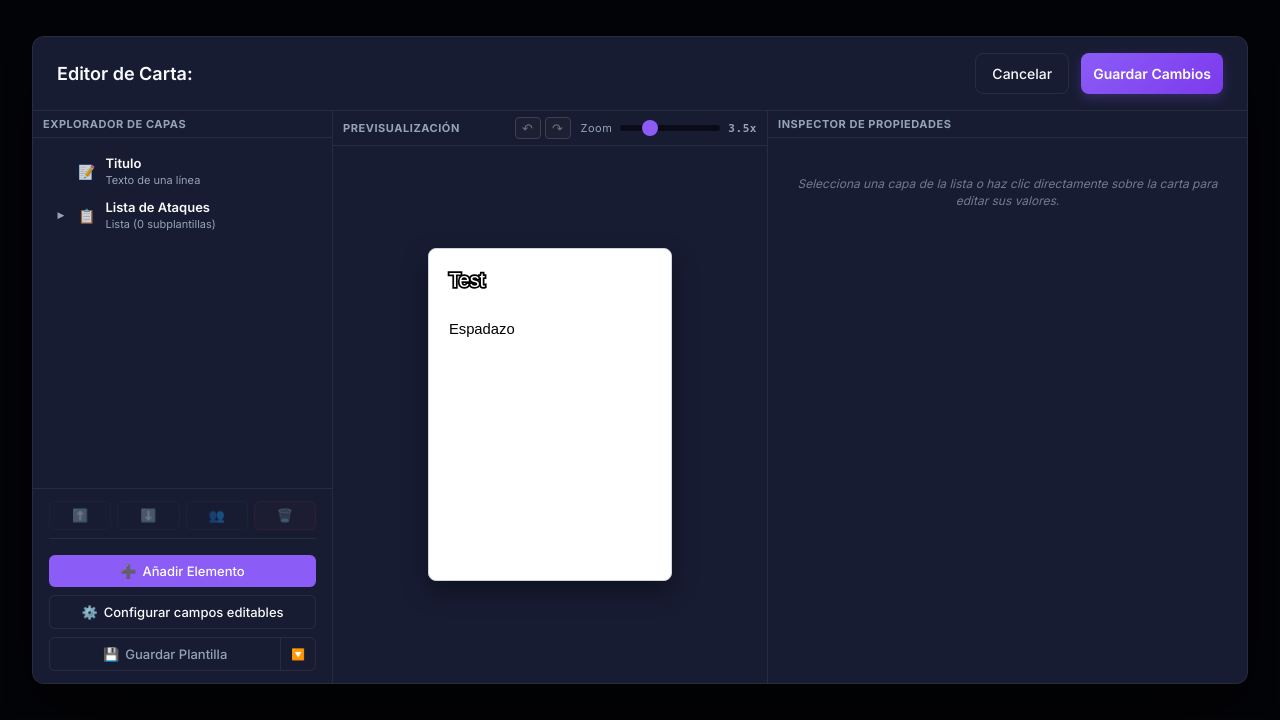
Test: TKT-057: Ajustes de Espacio y Solapamientos en Inspector Compacto › renderiza correctamente los controles de texto con Color y Contorno balanceados
The width and height of the screenshot is (1280, 720).
Note: Seleccionar la capa de texto
Click the element with class "hierarchy-item" showing "📝 Titulo Texto de una línea".
click(139, 171)  # box [78,155,200,187]
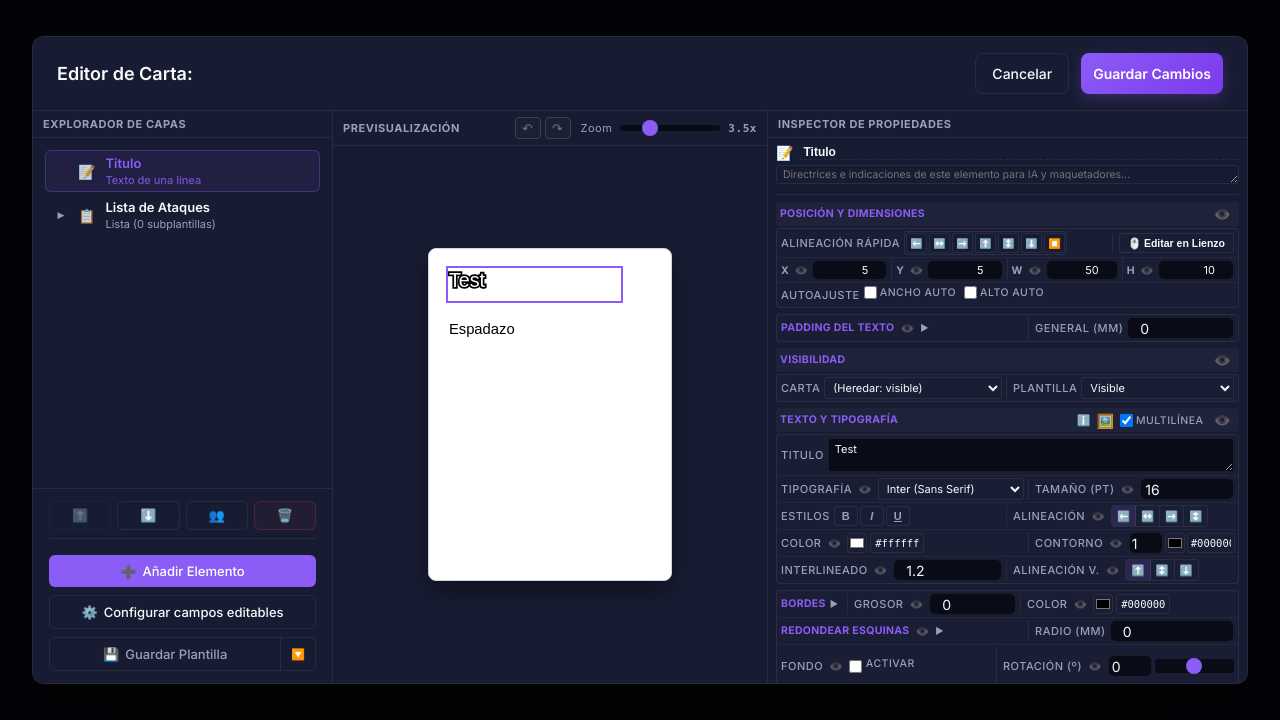
Now the button "🖱️ Editar en Lienzo" is shown, box [1119,233,1234,253]
